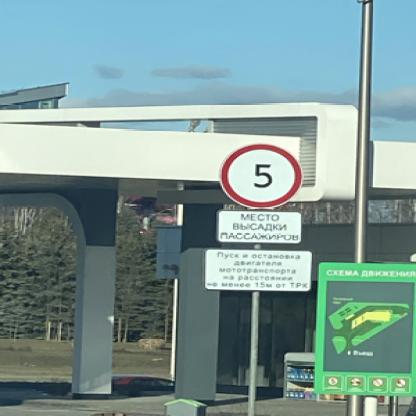speedlimit: (216, 142, 300, 208)
